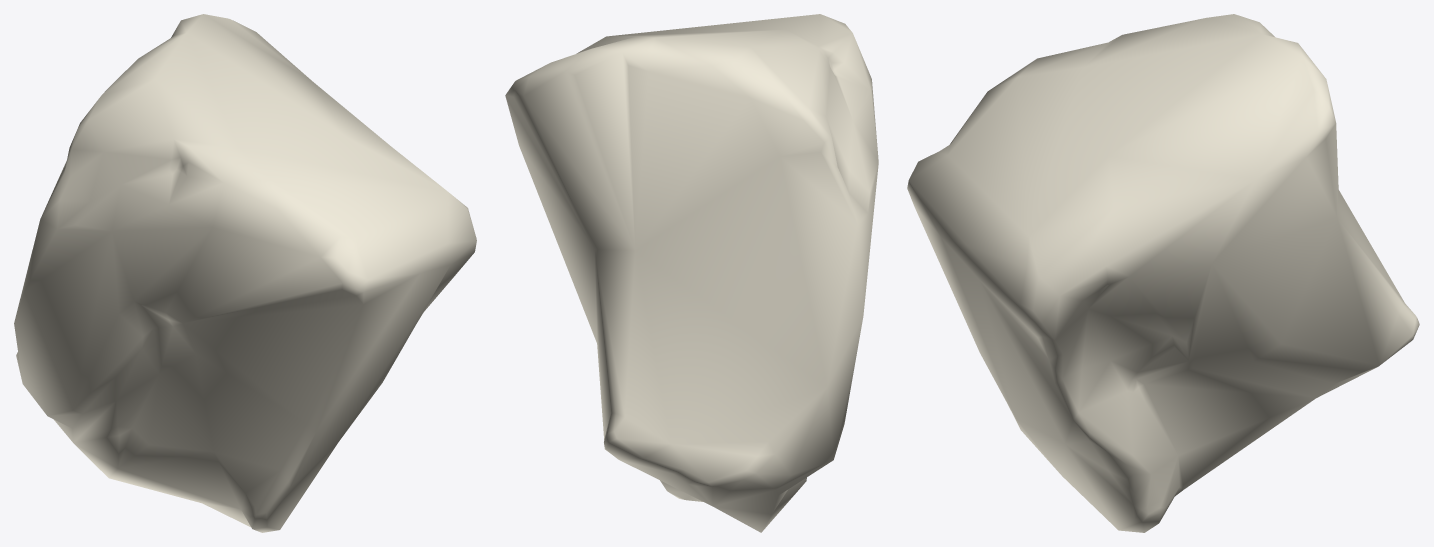
3 views of the same model, side by side, from view 1: azimuth 30°, elevation 25°; view 2: azimuth 150°, elevation 25°; view 3: azimuth 270°, elevation 25° (orthographic). The views are drawn at different scales.
Parts seen in each view (by area): view 1: ZA_d35e2f333da0c5df; view 2: ZA_d35e2f333da0c5df; view 3: ZA_d35e2f333da0c5df.
Part boxes in pixels (x1,y1,x2,y2): ZA_d35e2f333da0c5df: (14,14,476,532); ZA_d35e2f333da0c5df: (505,14,878,532); ZA_d35e2f333da0c5df: (907,14,1419,532).
Bounding box in the file's own units: 0.0195 × 0.024 × 0.023.
